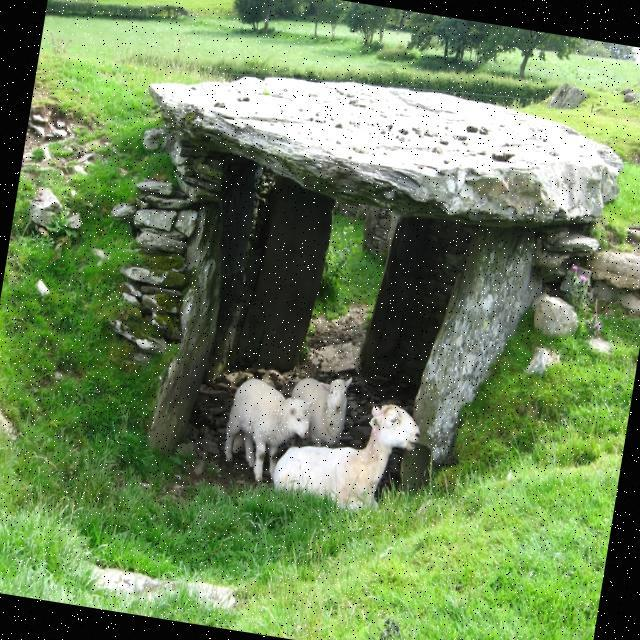sheep: (223, 377, 310, 478), (290, 376, 349, 446)
